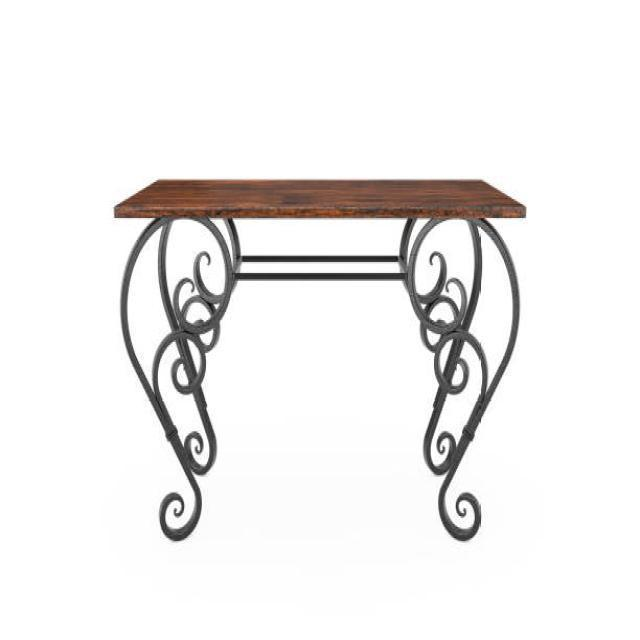table: (112, 175, 527, 542)
